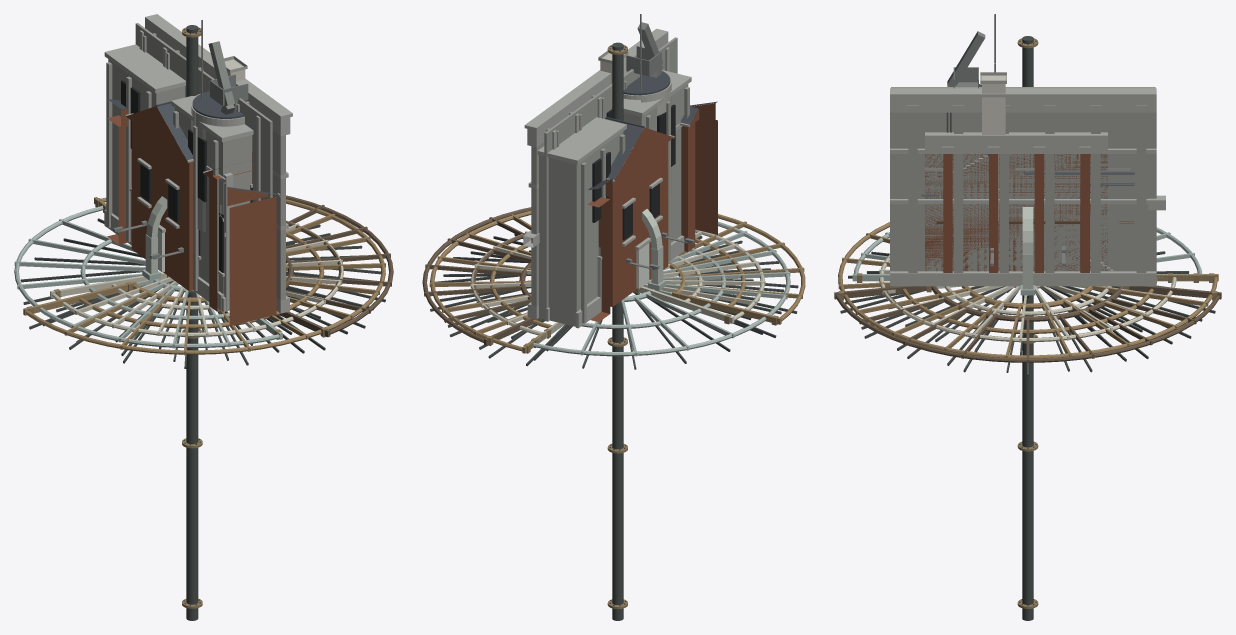
Rendered from source-continuation-architecture.glb.
3 renders of one model, left to right at view 1: azimuth 30°, elevation 25°; view 2: azimuth 150°, elevation 25°; view 3: azimuth 270°, elevation 25°, orthographic. The views are drawn at different scales.
Visible parts, largest first — view 1: source_ii_ellery_bay, source_ii_ellery_corner, source_iii_catch_frame_1, source_iii_catch_frame_2, source_iii_catch_frame_3, source_iii_spindle, source_iii_catch_frame_0, source_ii_chapel_buttress, source_ii_arch_voussoirs; view 2: source_ii_ellery_bay, source_ii_ellery_corner, source_iii_catch_frame_1, source_iii_catch_frame_2, source_iii_catch_frame_3, source_iii_catch_frame_0, source_iii_spindle, source_ii_chapel_buttress, source_ii_arch_voussoirs; view 3: source_ii_ellery_bay, source_ii_ellery_corner, source_iii_catch_frame_1, source_iii_catch_frame_0, source_iii_catch_frame_3, source_iii_spindle, source_iii_catch_frame_2, source_ii_arch_voussoirs, source_ii_chapel_buttress.
Boxes of the visible parts, x1,y1,x2,y2 form: source_ii_ellery_bay: (104,14,292,325); source_ii_ellery_corner: (107,56,252,311); source_iii_catch_frame_1: (23,197,385,368); source_iii_catch_frame_2: (14,204,282,361); source_iii_catch_frame_3: (50,220,343,349); source_iii_spindle: (182,25,202,620); source_iii_catch_frame_0: (276,195,393,350); source_ii_chapel_buttress: (127,91,244,311); source_ii_arch_voussoirs: (142,196,167,280); source_ii_ellery_bay: (523,14,717,328); source_ii_ellery_corner: (588,51,699,321); source_iii_catch_frame_1: (429,210,805,366); source_iii_catch_frame_2: (531,221,790,369); source_iii_catch_frame_3: (470,229,765,351); source_iii_catch_frame_0: (422,207,544,358); source_iii_spindle: (607,42,627,620); source_ii_chapel_buttress: (597,71,682,311); source_ii_arch_voussoirs: (642,209,666,290); source_ii_ellery_bay: (890,14,1165,286); source_ii_ellery_corner: (925,72,1107,286); source_iii_catch_frame_1: (838,222,1218,372); source_iii_catch_frame_0: (834,286,1221,376); source_iii_catch_frame_3: (879,254,1176,355); source_iii_spindle: (1017,36,1038,620); source_iii_catch_frame_2: (852,227,1203,282); source_ii_arch_voussoirs: (1020,207,1035,295); source_ii_chapel_buttress: (921,84,1134,271).
Size of the model in its own units: 25.5 by 43.5 by 25.42.
